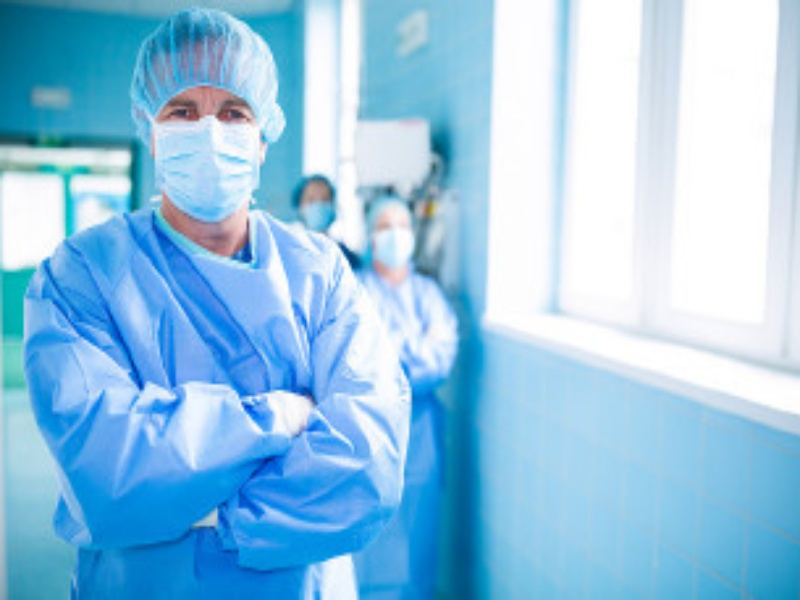mask: (138, 9, 287, 221), (360, 188, 423, 271), (294, 166, 340, 225)
